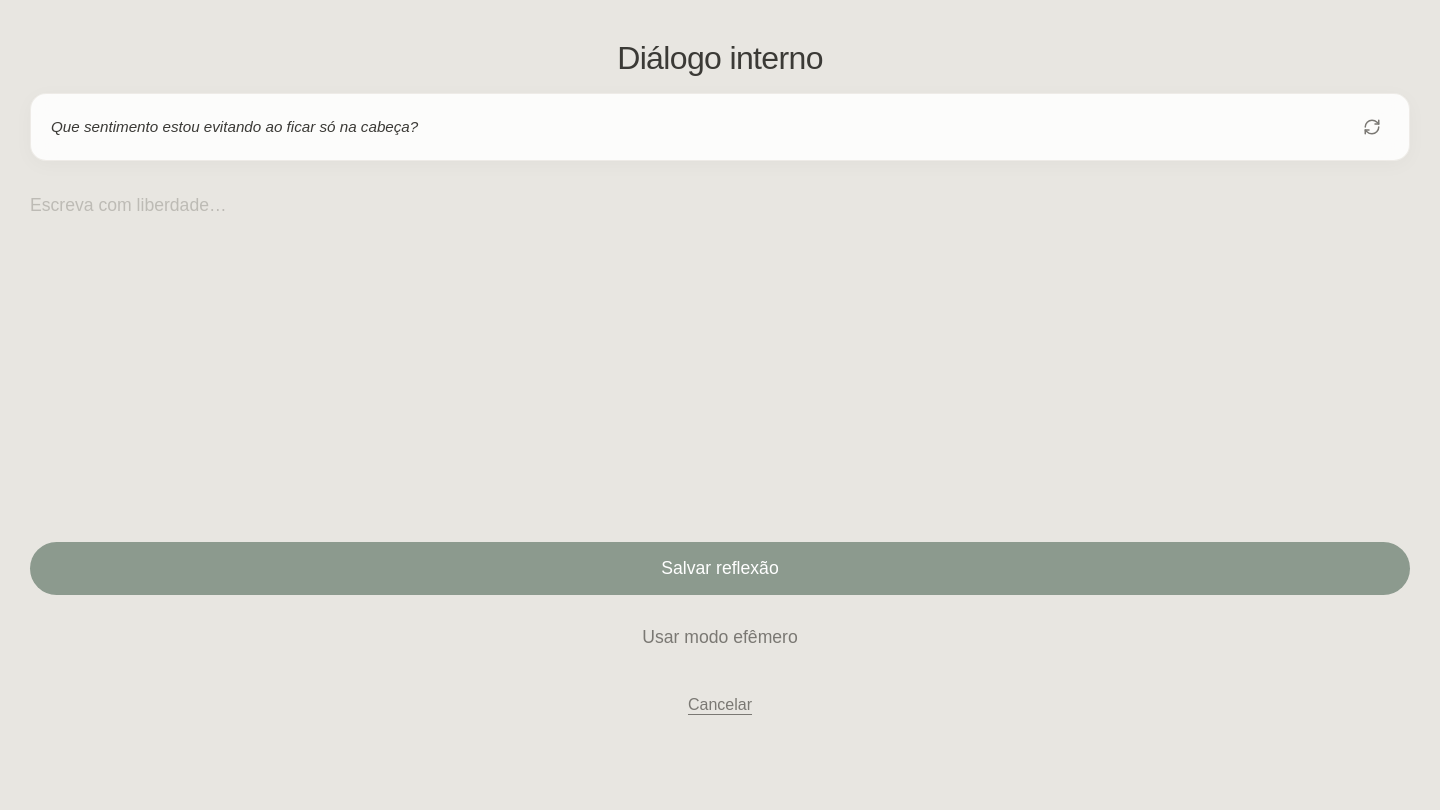
Scenario: InternalDialogue Component › toggles ephemeral mode when button is clicked
Click the button "Usar modo efêmero": (720, 638) 30,611 -> 1410,664
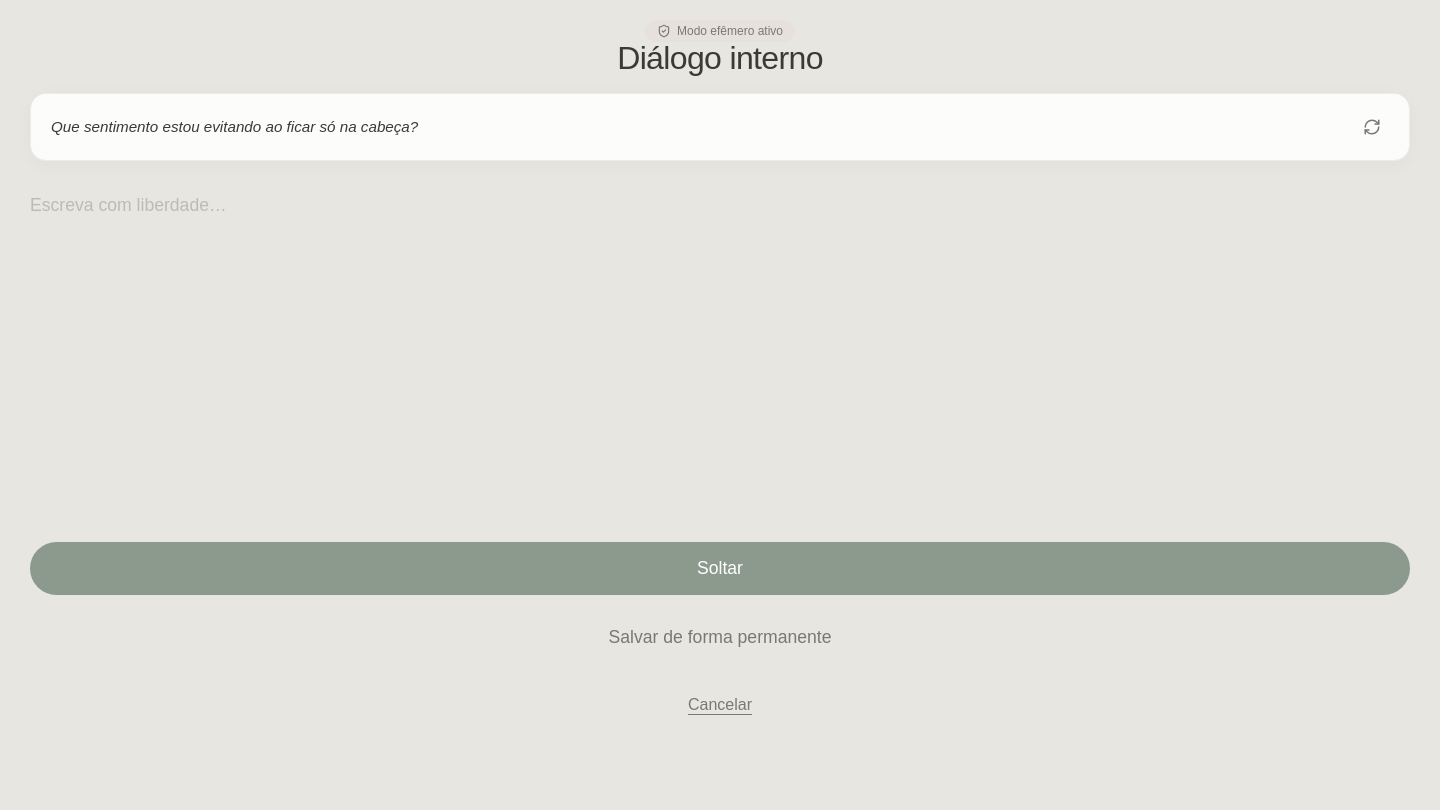
Expected: the text "Modo efêmero ativo" is shown, 645,20 -> 795,42
Expected: the button "Soltar" is shown, 30,542 -> 1410,595
Expected: the button "Salvar de forma permanente" is shown, 30,611 -> 1410,664
